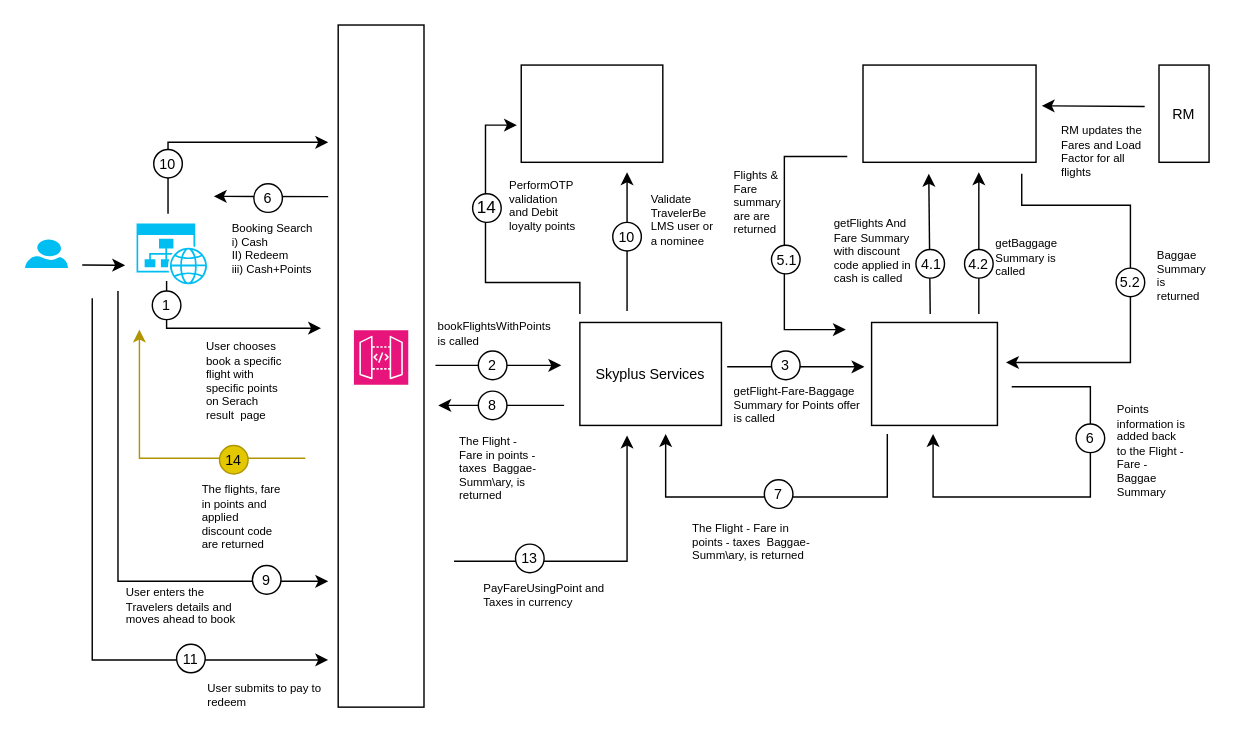
The diagram is 1238 pixels wide and 755 high, and some of its shapes have lost their labels. Here are the shapes that lost their labels. From the top down, the centre of each, then its label:
the point at 591,113: LMS Services
the point at 949,113: 1N API/Services
the point at 933,373: Offer Engine
